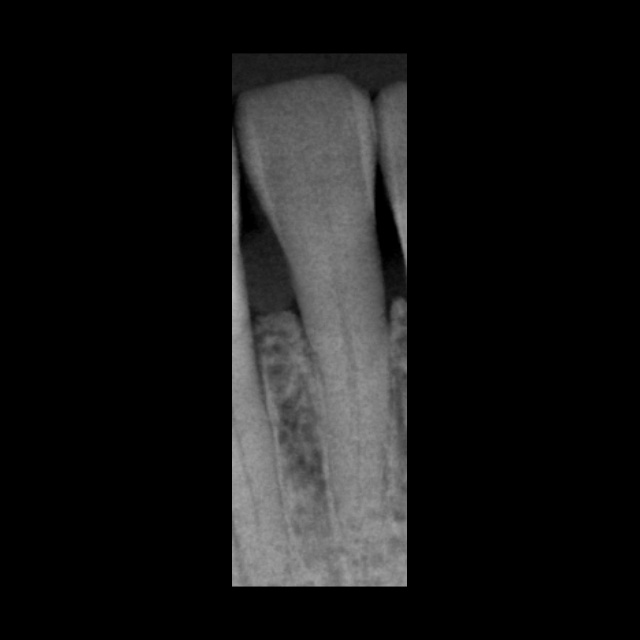tooth: (233, 72, 393, 531)
